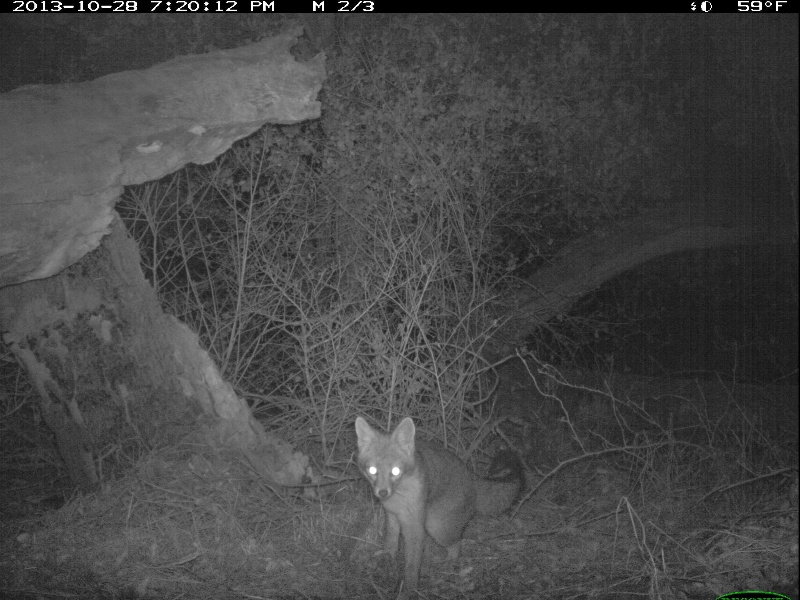fox: (352, 413, 528, 600)
